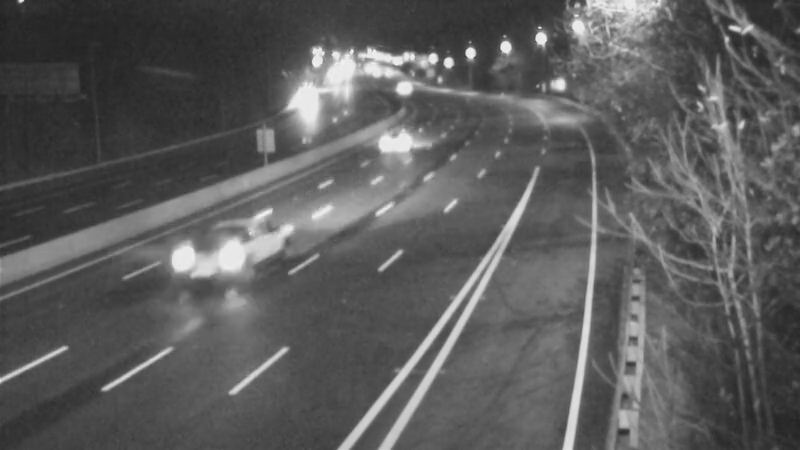vehicle: (189, 216, 269, 296), (378, 63, 428, 113), (376, 113, 426, 163)
